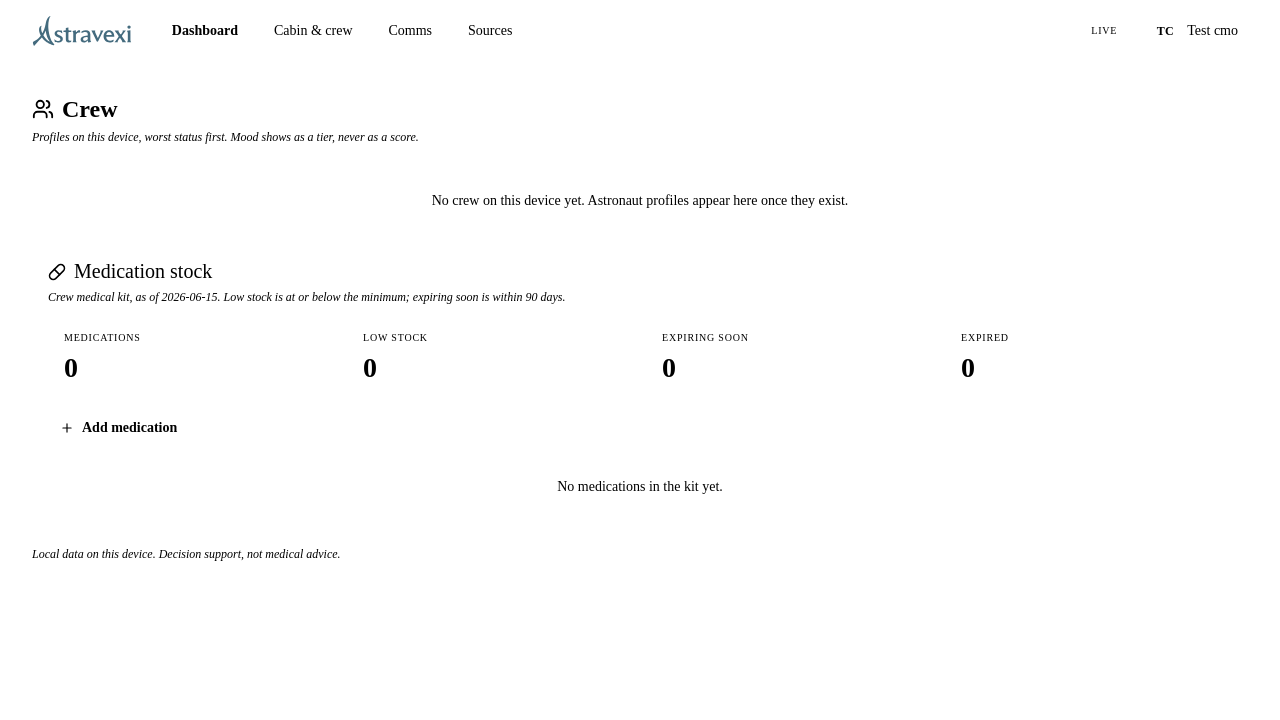
Test: sync UI › shows the enrollment form with the secure-context note when not enrolled
Click the button with aria-label "profile menu" at (1199, 30), box x1=1149 y1=14 x2=1248 y2=46
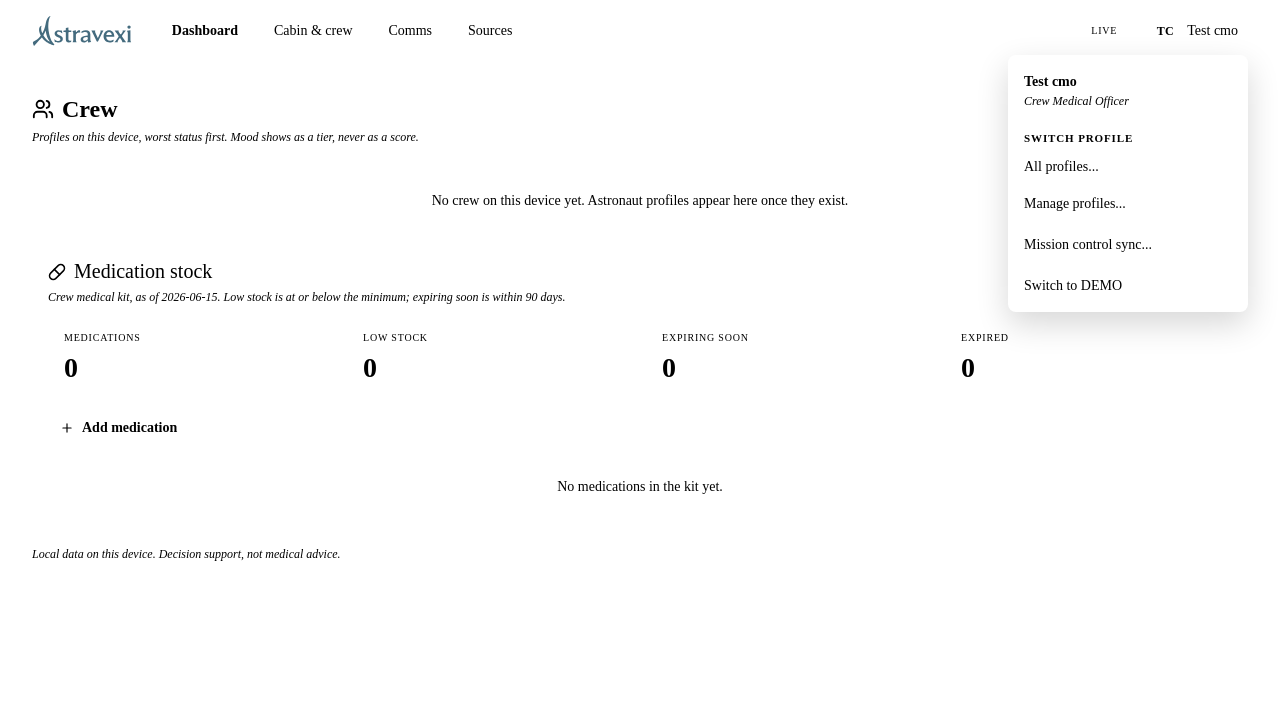
Click the menu item "Mission control sync..." at (1128, 244), box x1=1016 y1=226 x2=1240 y2=263
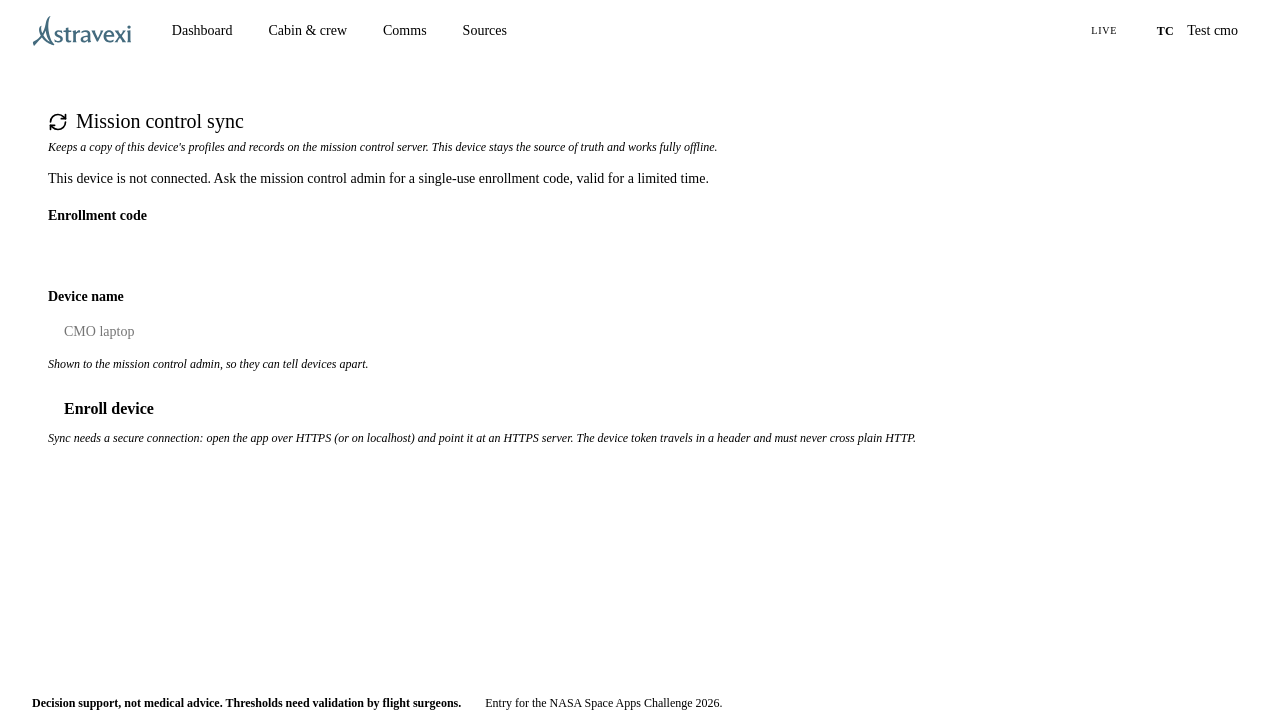
Now the heading "Mission control sync" is shown, box x1=48 y1=110 x2=244 y2=132
Now the field labelled "Device name" is shown, box x1=48 y1=311 x2=1232 y2=351
Now the text "HTTPS (or on localhost)" is shown, box x1=48 y1=431 x2=916 y2=445
